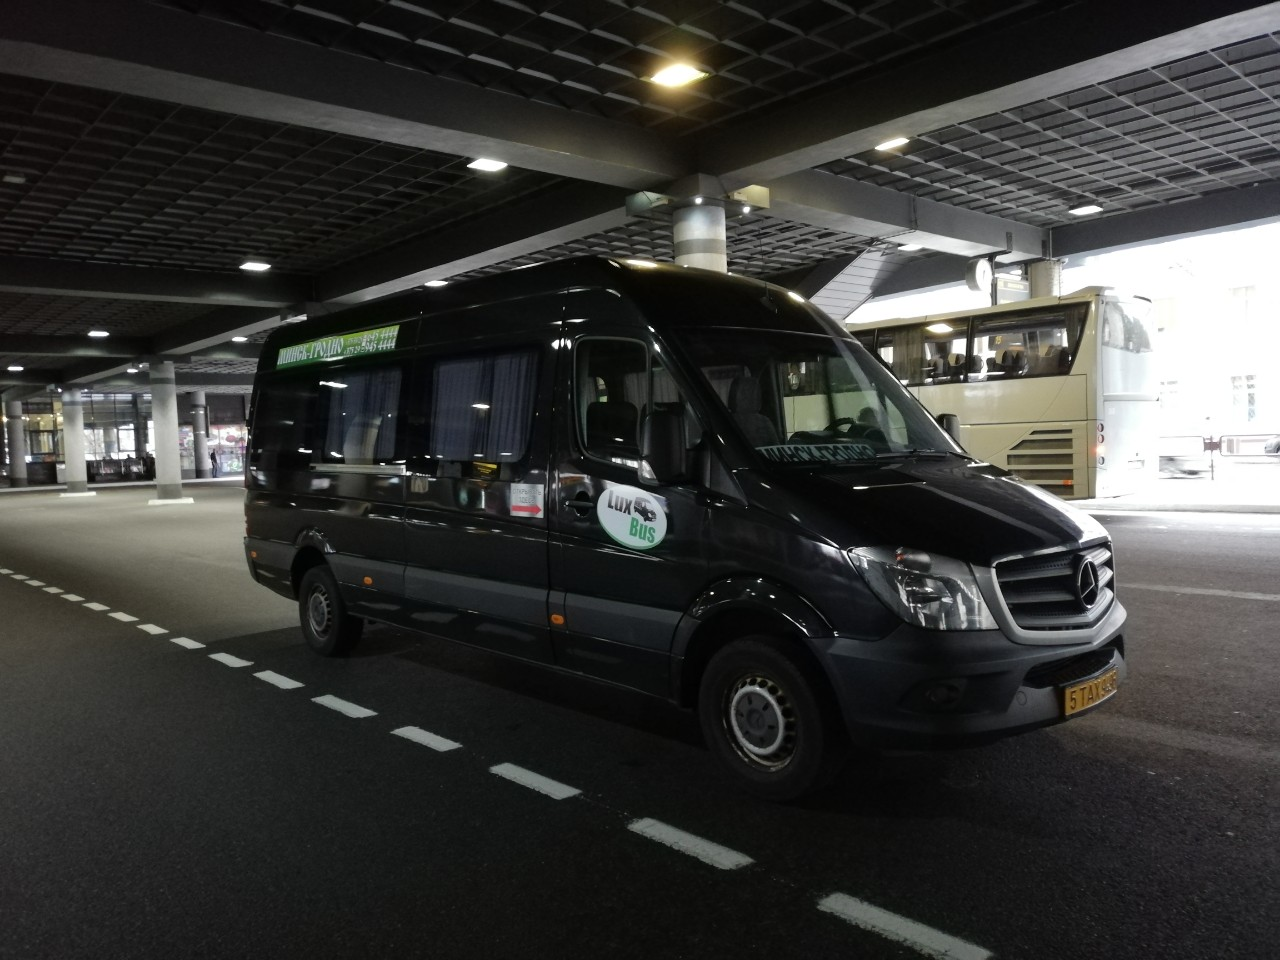van: (242, 256, 1121, 785)
